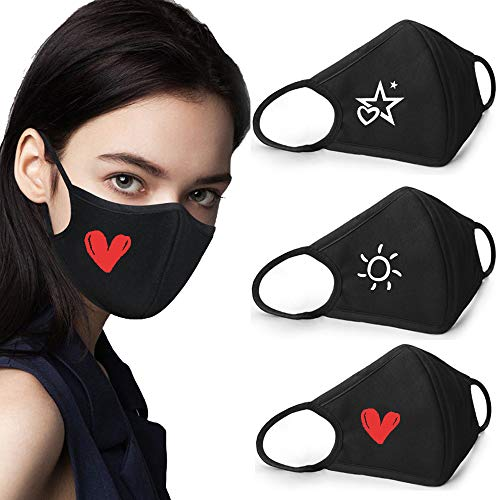mask: (246, 14, 498, 175), (247, 176, 499, 337), (248, 339, 500, 500), (45, 190, 215, 318)
person: (3, 1, 253, 500)
